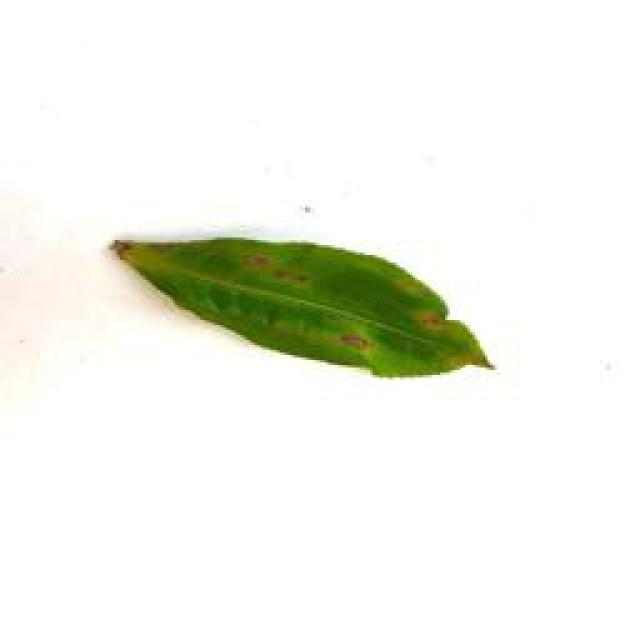Helopeltis: (111, 230, 495, 383)
